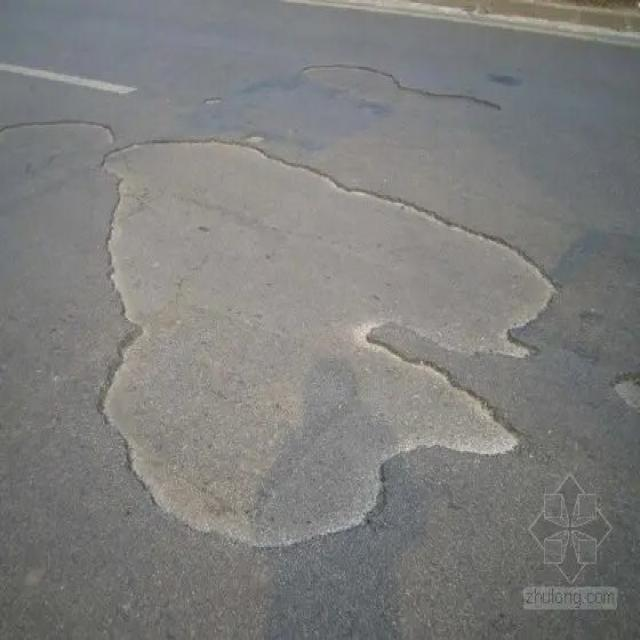Pothole: (102, 137, 561, 544), (298, 62, 502, 120), (4, 114, 114, 150), (610, 366, 639, 413), (203, 95, 220, 104)
